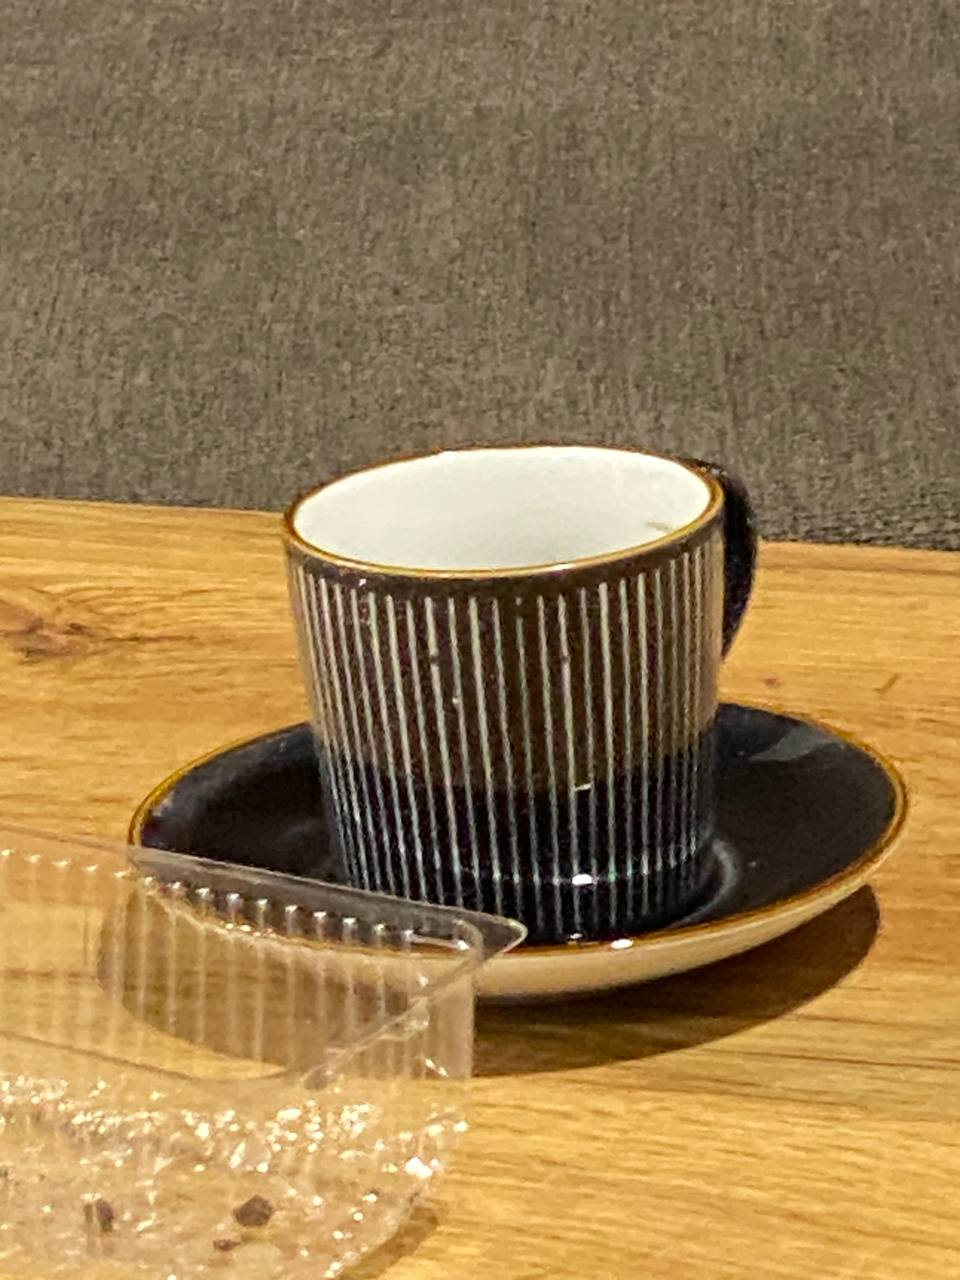cup: (144, 438, 910, 998)
